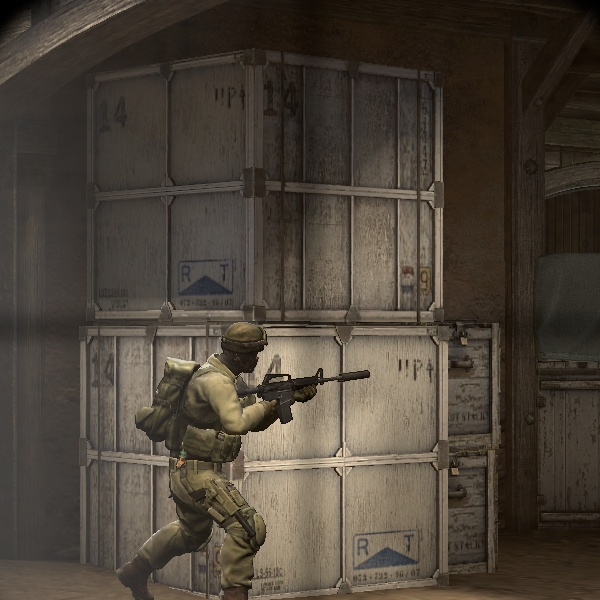ct_body: (144, 302, 316, 598)
ct_head: (210, 304, 278, 380)
